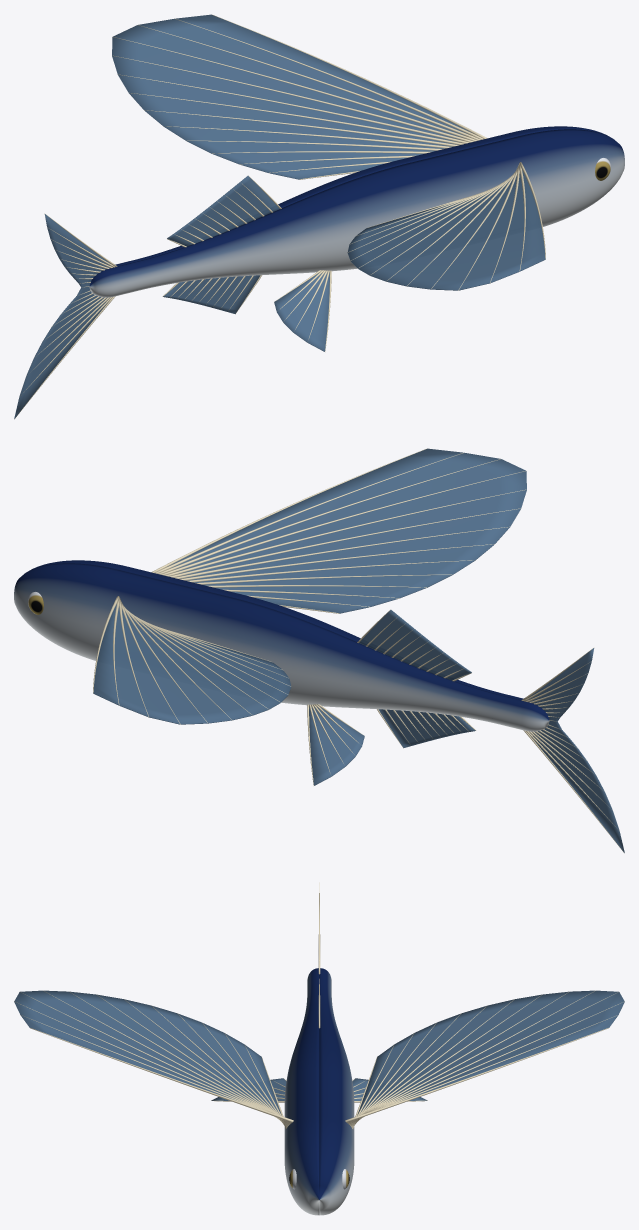
Rendered from flying-fish.glb.
3 views of the same model, one above another, from view 1: azimuth 30°, elevation 25°; view 2: azimuth 150°, elevation 25°; view 3: azimuth 270°, elevation 25° (orthographic). The views are drawn at different scales.
Parts seen in each view (by area): view 1: pectoral_fin_L, skin_R, pectoral_fin_R, caudal_fin, dorsal_fin, pelvic_fin_R, anal_fin, skin_L, caudal_fin_rays, pectoral_fin_ray_L_04, pectoral_fin_ray_L_03, pectoral_fin_ray_L_05 (+8 smaller); view 2: pectoral_fin_R, skin_L, pectoral_fin_L, caudal_fin, dorsal_fin, pelvic_fin_L, anal_fin, skin_R, caudal_fin_rays, pectoral_fin_ray_R_04, pectoral_fin_ray_R_03, pectoral_fin_ray_R_05 (+8 smaller); view 3: pectoral_fin_L, pectoral_fin_R, skin_L, skin_R, pectoral_fin_ray_L_01, pectoral_fin_ray_R_01.
Boxes of the visible parts, <box> form: pectoral_fin_L: <box>112,14,471,179</box>; skin_R: <box>89,129,624,297</box>; pectoral_fin_R: <box>347,170,545,290</box>; caudal_fin: <box>14,214,110,418</box>; dorsal_fin: <box>167,176,279,246</box>; pelvic_fin_R: <box>274,272,329,351</box>; anal_fin: <box>163,275,260,313</box>; skin_L: <box>115,126,609,266</box>; caudal_fin_rays: <box>15,213,117,418</box>; pectoral_fin_ray_L_04: <box>112,36,477,141</box>; pectoral_fin_ray_L_03: <box>138,25,480,140</box>; pectoral_fin_ray_L_05: <box>112,55,473,142</box>; pectoral_fin_R: <box>167,448,526,613</box>; skin_L: <box>14,563,549,731</box>; pectoral_fin_L: <box>93,604,291,724</box>; caudal_fin: <box>528,648,624,852</box>; dorsal_fin: <box>359,610,471,680</box>; pelvic_fin_L: <box>309,706,364,785</box>; anal_fin: <box>378,709,475,747</box>; skin_R: <box>29,560,523,700</box>; caudal_fin_rays: <box>521,647,623,852</box>; pectoral_fin_ray_R_04: <box>161,470,526,575</box>; pectoral_fin_ray_R_03: <box>158,459,500,574</box>; pectoral_fin_ray_R_05: <box>165,489,526,576</box>; pectoral_fin_L: <box>357,990,624,1115</box>; pectoral_fin_R: <box>14,990,281,1115</box>; skin_L: <box>319,968,354,1215</box>; skin_R: <box>284,968,319,1215</box>; pectoral_fin_ray_L_01: <box>345,1028,608,1122</box>; pectoral_fin_ray_R_01: <box>30,1028,293,1122</box>.
Size of the model in its own units: 0.9725 by 0.3027 by 0.9743.
